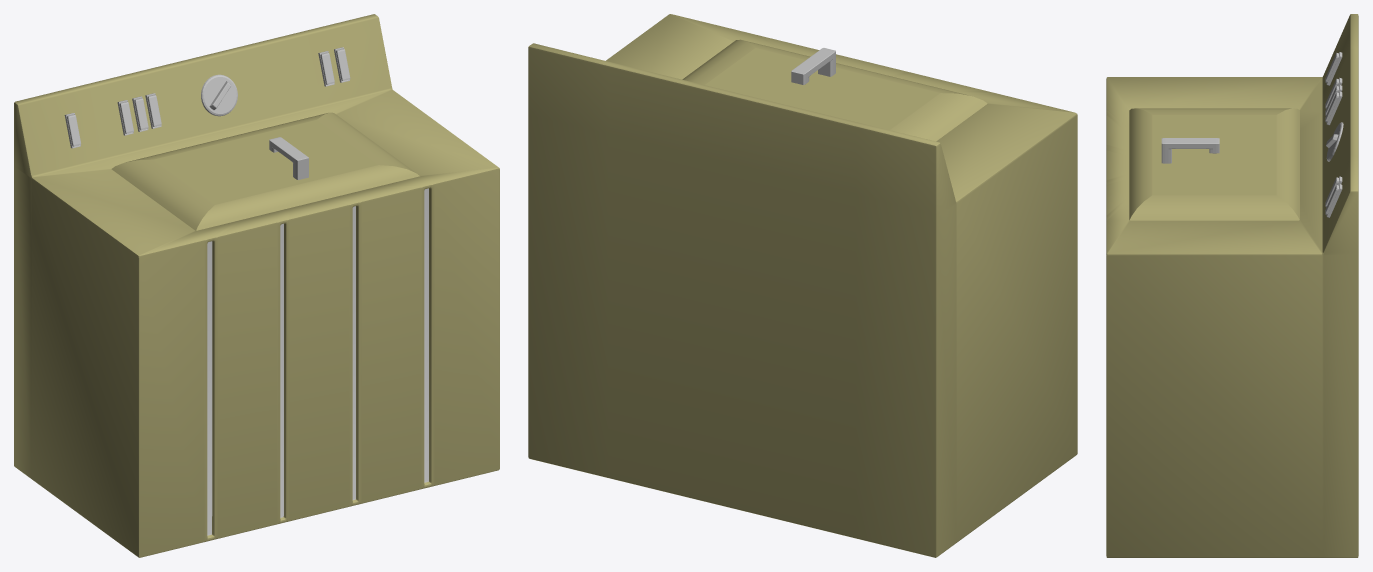
The model's file is WashMachine.fbx.
The picture shows the model from 3 angles, left to right: view 1: azimuth 30°, elevation 25°; view 2: azimuth 150°, elevation 25°; view 3: azimuth 270°, elevation 25°; orthographic projection. The views are drawn at different scales.
Visible parts, largest first — view 1: Cabinet.002, Cabinet.006, Cylinder.001, Cube.029; view 2: Cabinet.002, Cabinet.006, Cube.029; view 3: Cabinet.002, Cabinet.006, Cube.029, Cylinder.001.
Boxes of the visible parts, x1,y1,x2,y2 form: Cabinet.002: (14, 14, 499, 557); Cabinet.006: (111, 112, 419, 230); Cylinder.001: (201, 74, 237, 116); Cube.029: (269, 137, 308, 179); Cabinet.002: (528, 14, 1077, 557); Cabinet.006: (682, 39, 987, 141); Cube.029: (791, 48, 835, 84); Cabinet.002: (1106, 14, 1358, 557); Cabinet.006: (1129, 108, 1299, 220); Cube.029: (1161, 138, 1219, 163); Cylinder.001: (1326, 122, 1343, 161).
Size of the model in its own units: 100 by 96.55 by 60.
